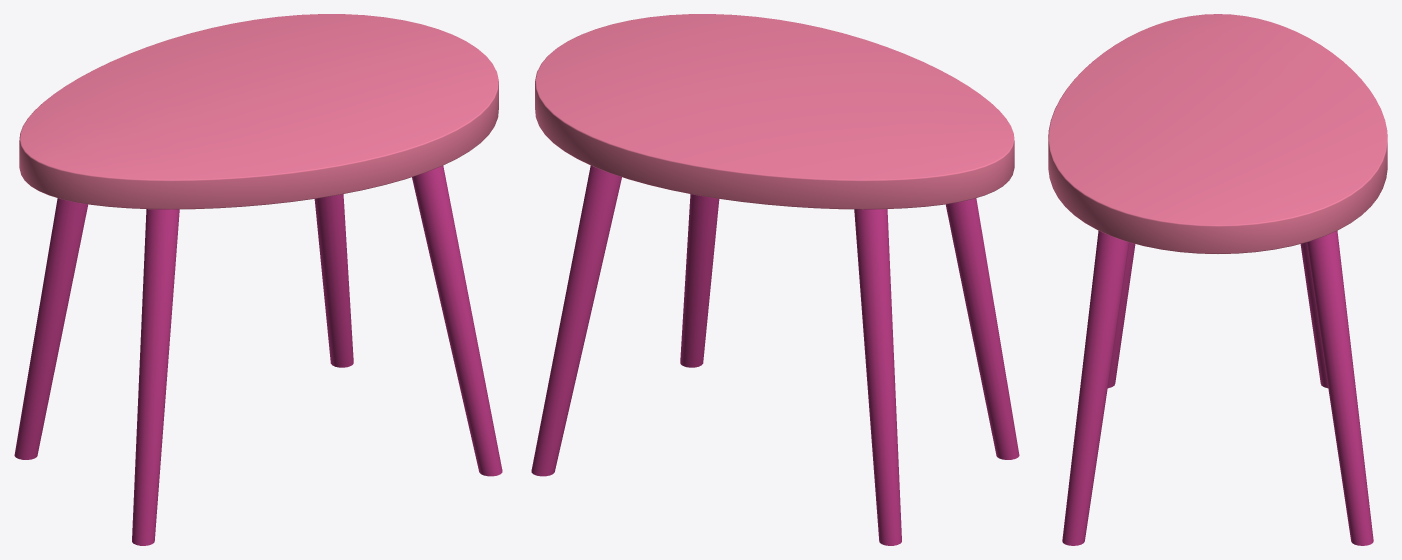
File: mesa_lateral_ovo_rosa.glb
The picture shows the model from 3 angles, left to right: view 1: azimuth 30°, elevation 25°; view 2: azimuth 150°, elevation 25°; view 3: azimuth 270°, elevation 25°; orthographic projection. The views are drawn at different scales.
Visible parts, largest first — view 1: mesa_lateral_ovo_rosa; view 2: mesa_lateral_ovo_rosa; view 3: mesa_lateral_ovo_rosa.
Part boxes in pixels (x1,y1,x2,y2): mesa_lateral_ovo_rosa: (14,14,502,545); mesa_lateral_ovo_rosa: (531,14,1019,545); mesa_lateral_ovo_rosa: (1048,14,1387,545).
Size of the model in its own units: 0.66 by 0.5 by 0.4467.
Materials: 1 (1 with a texture image).
